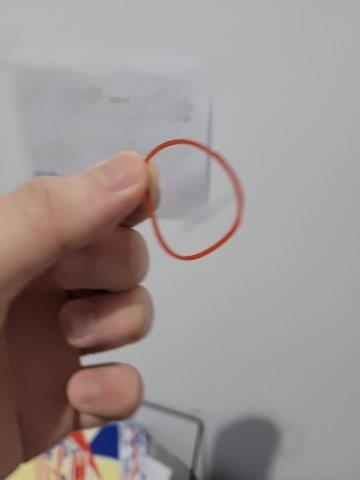karet: (141, 137, 246, 262)
